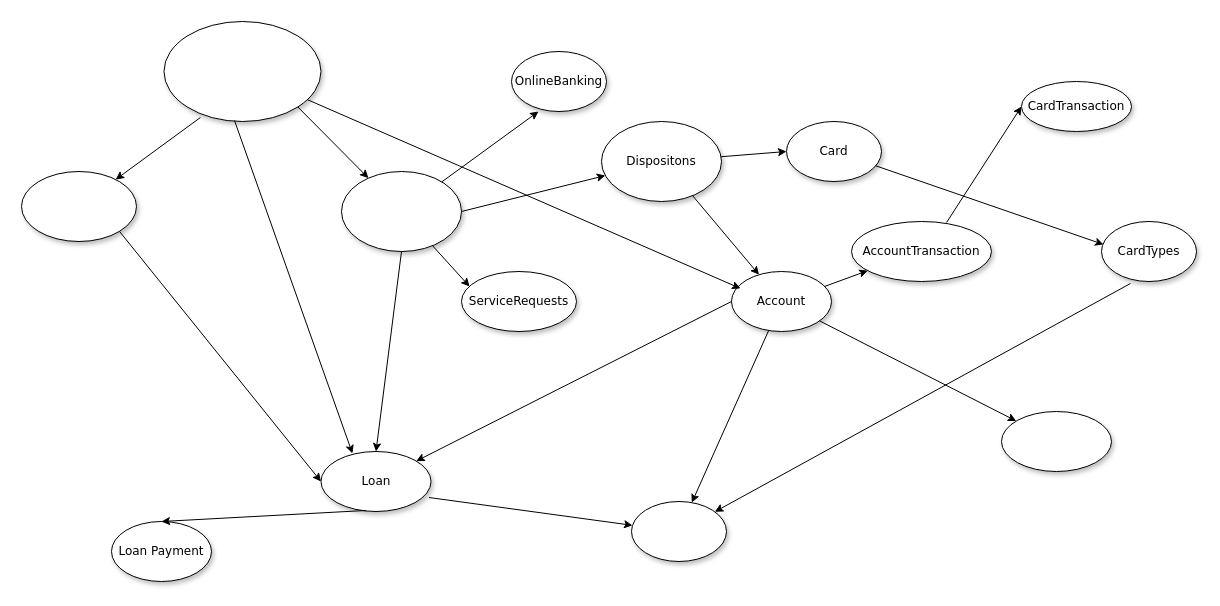
The diagram is 1220 pixels wide and 606 high, and some of its shapes have lost their labels. Each missing label, with the centre of its shape:
"Branch" goes at (x=243, y=72).
"Customer" goes at (x=402, y=212).
"Employee" goes at (x=79, y=207).
"Fee & Charges" goes at (x=1057, y=442).
"InterestRate" goes at (x=679, y=532).
